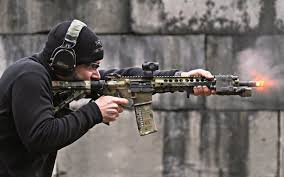Gun: (103, 68, 265, 122)
